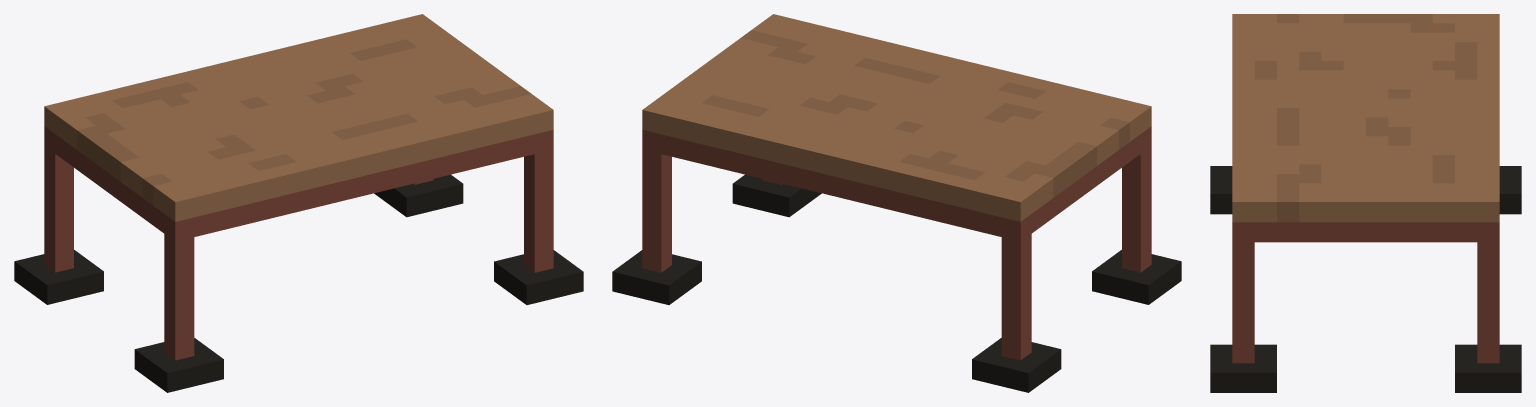
Rendered from Medieval Assets-26-Decoration - Table - Plain Light.obj.
3 renders of one model, left to right at view 1: azimuth 30°, elevation 25°; view 2: azimuth 150°, elevation 25°; view 3: azimuth 270°, elevation 25°, orthographic.
Visible parts, largest first — view 1: Decoration - Table - Plain Light; view 2: Decoration - Table - Plain Light; view 3: Decoration - Table - Plain Light.
Boxes of the visible parts, box(x1,y1,x2,y2) form: Decoration - Table - Plain Light: box(14, 14, 583, 392); Decoration - Table - Plain Light: box(612, 14, 1181, 392); Decoration - Table - Plain Light: box(1210, 14, 1521, 392).
Size of the model in its own units: 2.2 by 0.9 by 1.4.
1 material, 1 textured.
